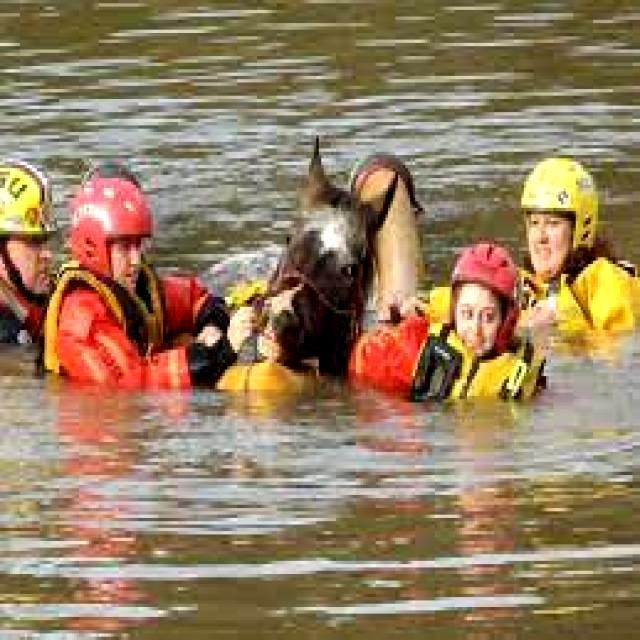horse: (254, 109, 426, 394)
rescuer: (48, 166, 266, 411), (406, 235, 542, 433), (518, 157, 640, 360), (0, 141, 57, 353)
